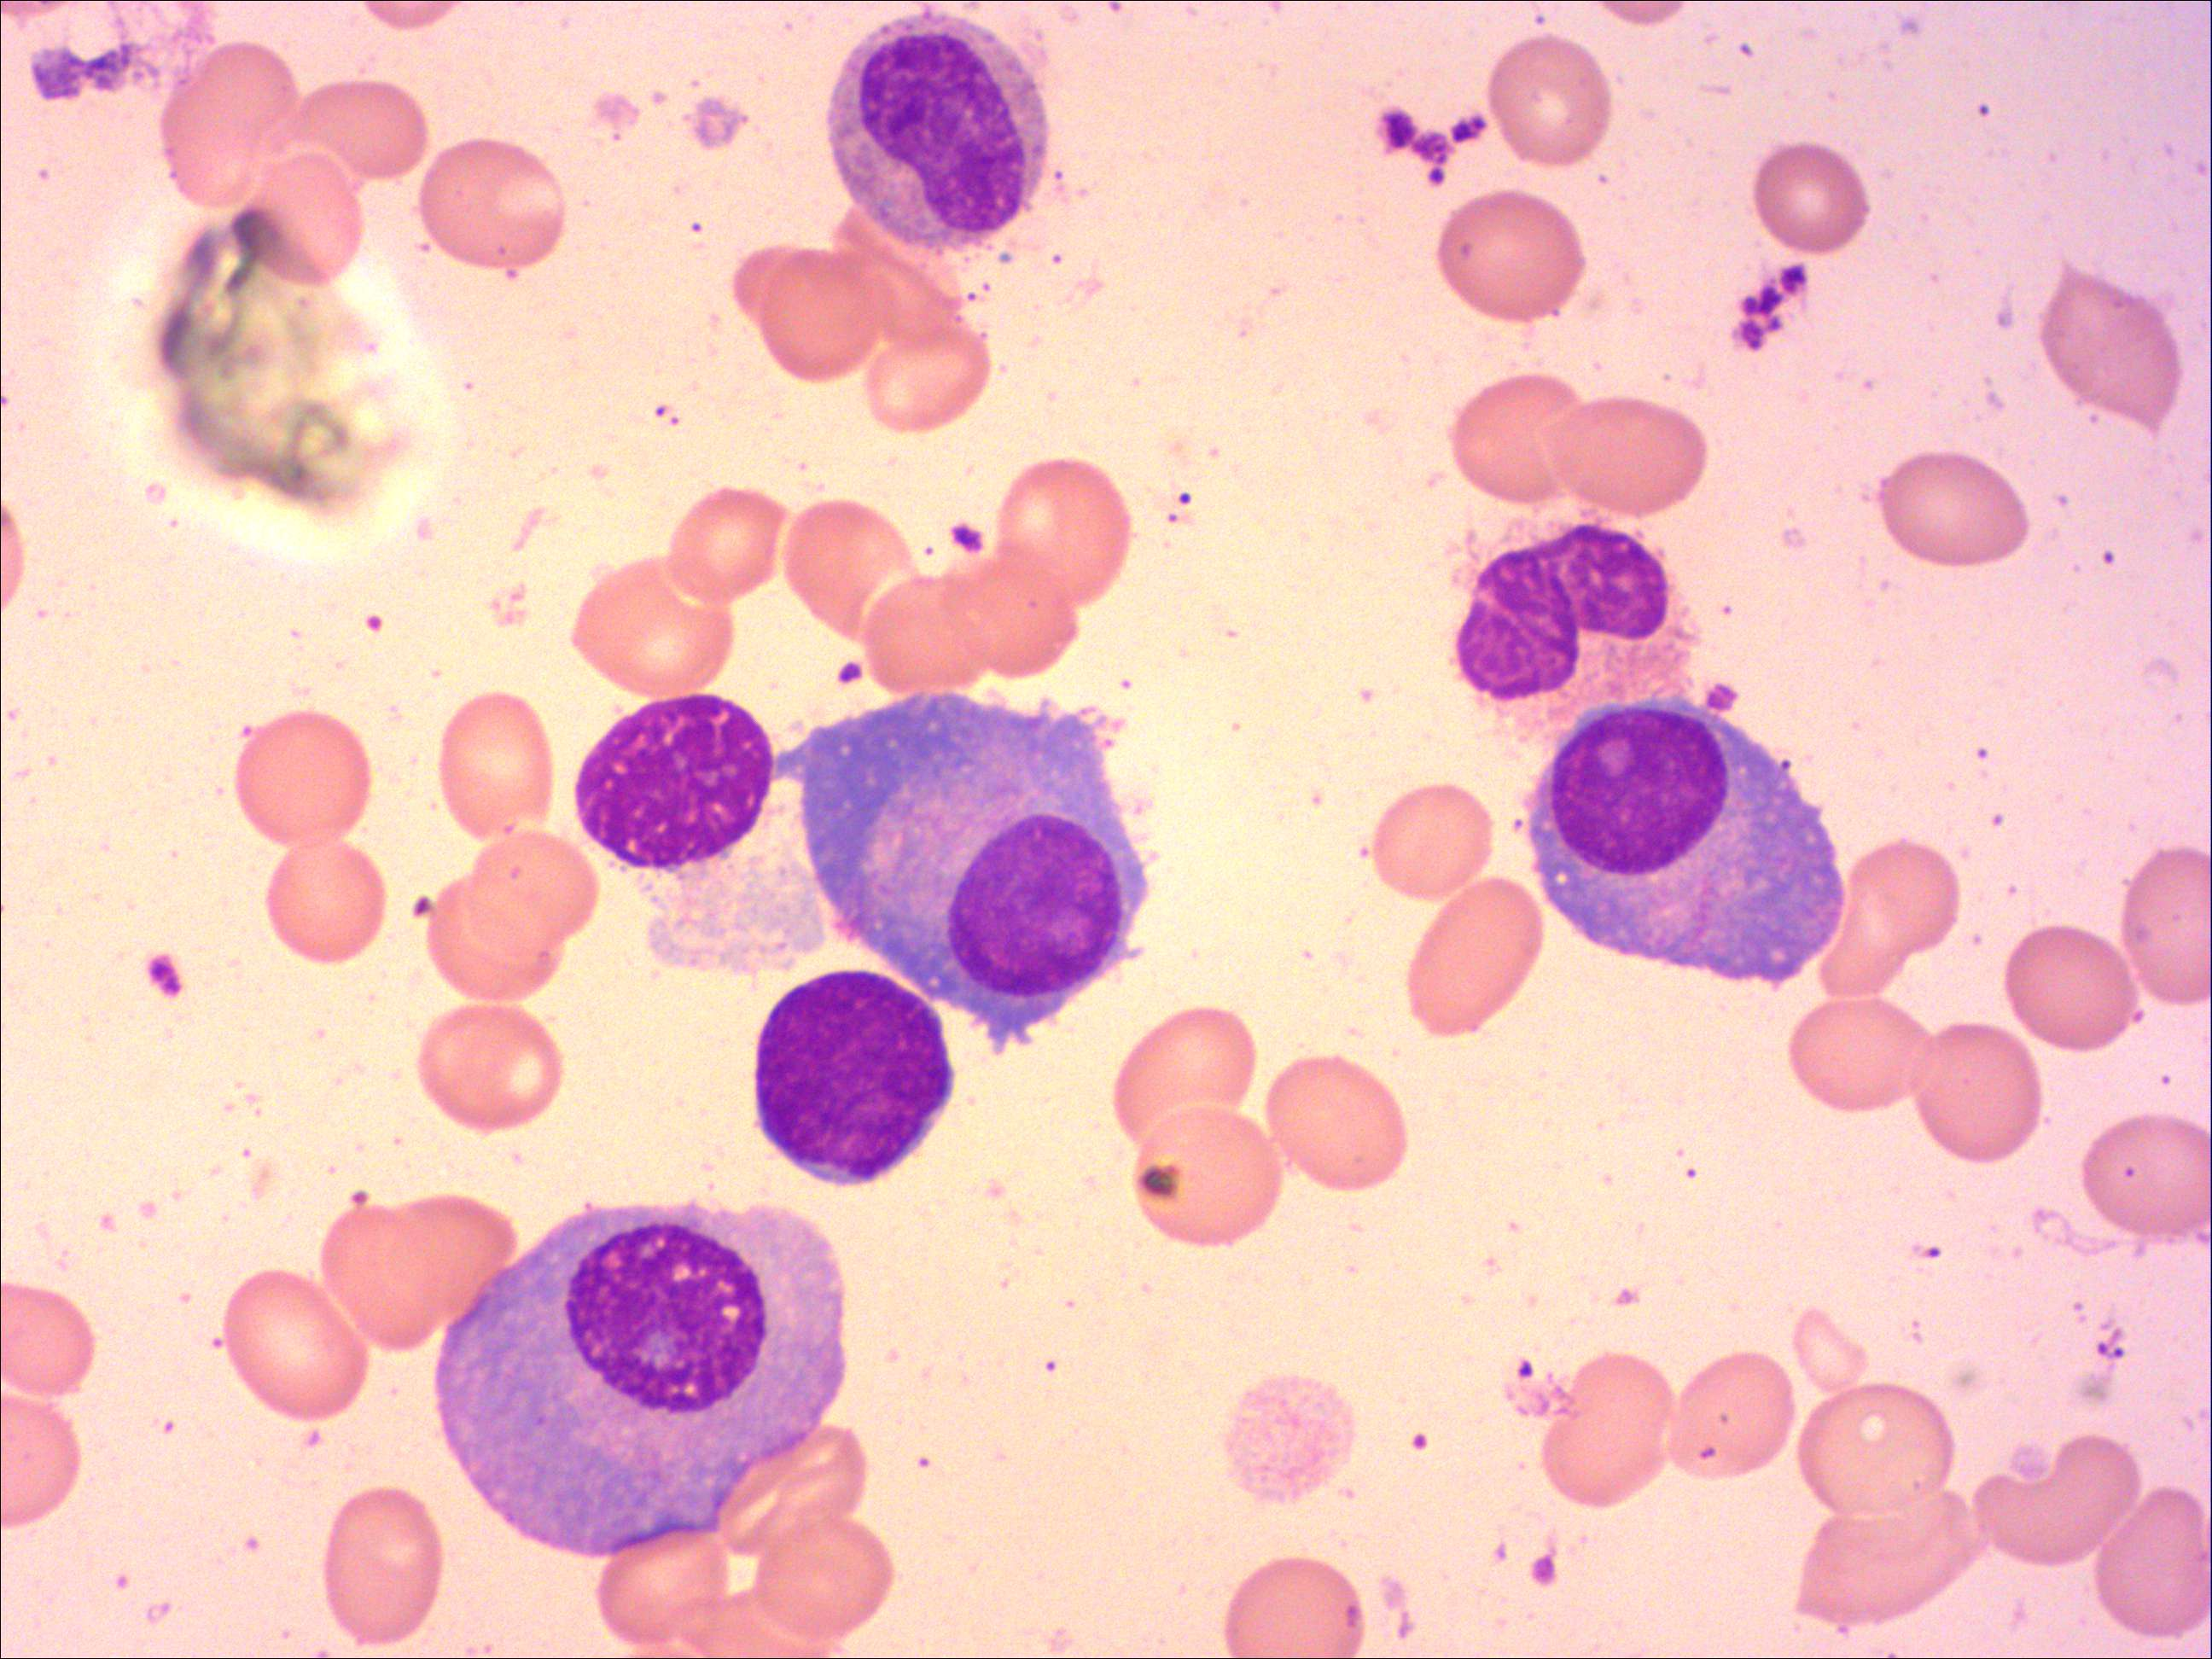32: (749, 965, 958, 1192)
4: (820, 7, 1055, 254)
51: (430, 1199, 855, 1565), (794, 688, 1160, 1056), (1519, 690, 1855, 993)
x: (1430, 498, 1707, 748), (564, 683, 784, 880)
